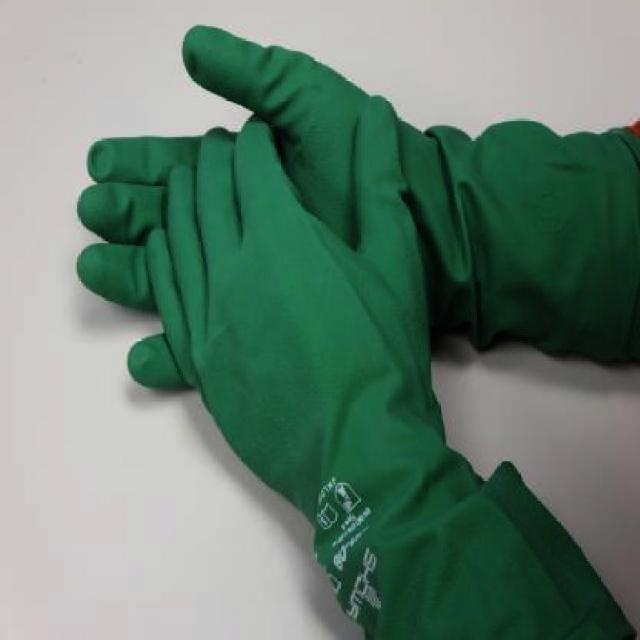Guantes: (157, 128, 625, 633), (72, 58, 640, 362)
